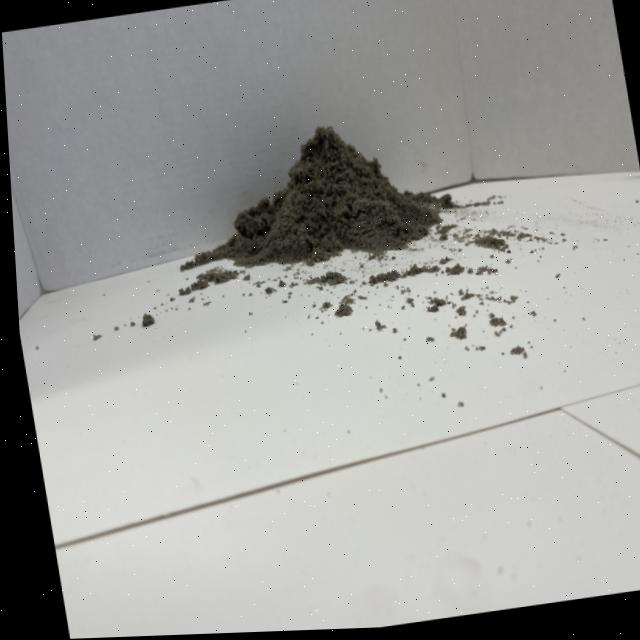sand: (216, 95, 459, 290)
